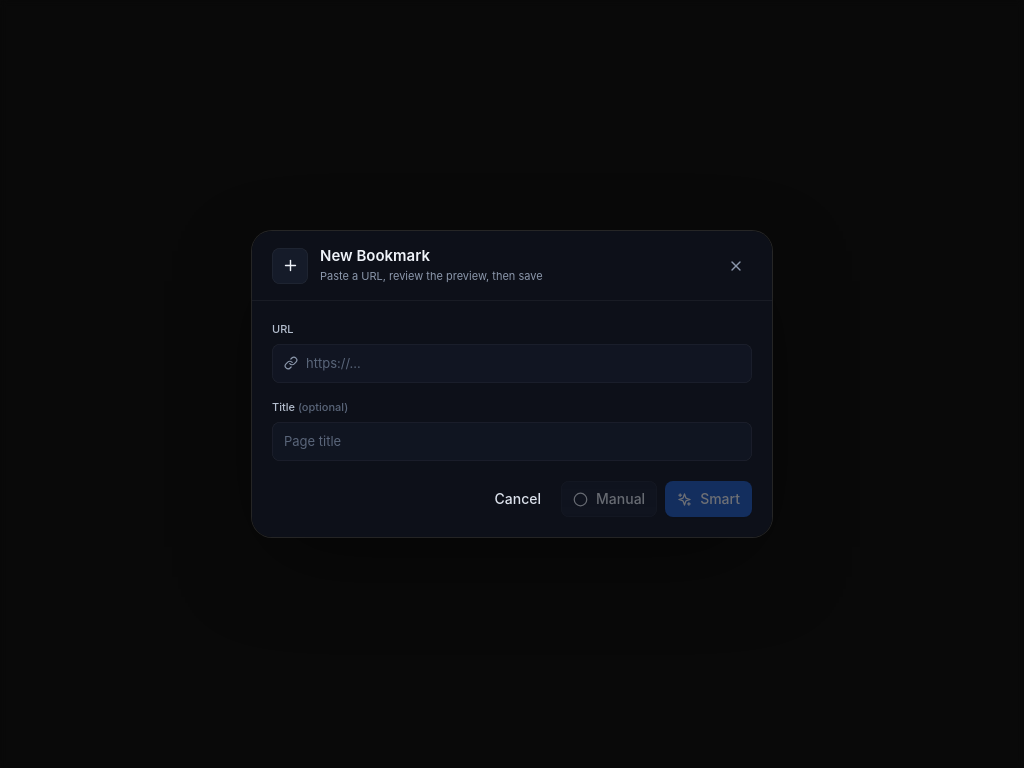
Scenario: NewBookmarkDialog Manual 与 Smart 入口 › 点击 Smart 调用一次元数据与一次 AI 分析
The image size is (1024, 768).
Step 1. Type "https://example.test/smart" into the field named "Bookmark URL" → (523, 363), box [306,354,740,373]
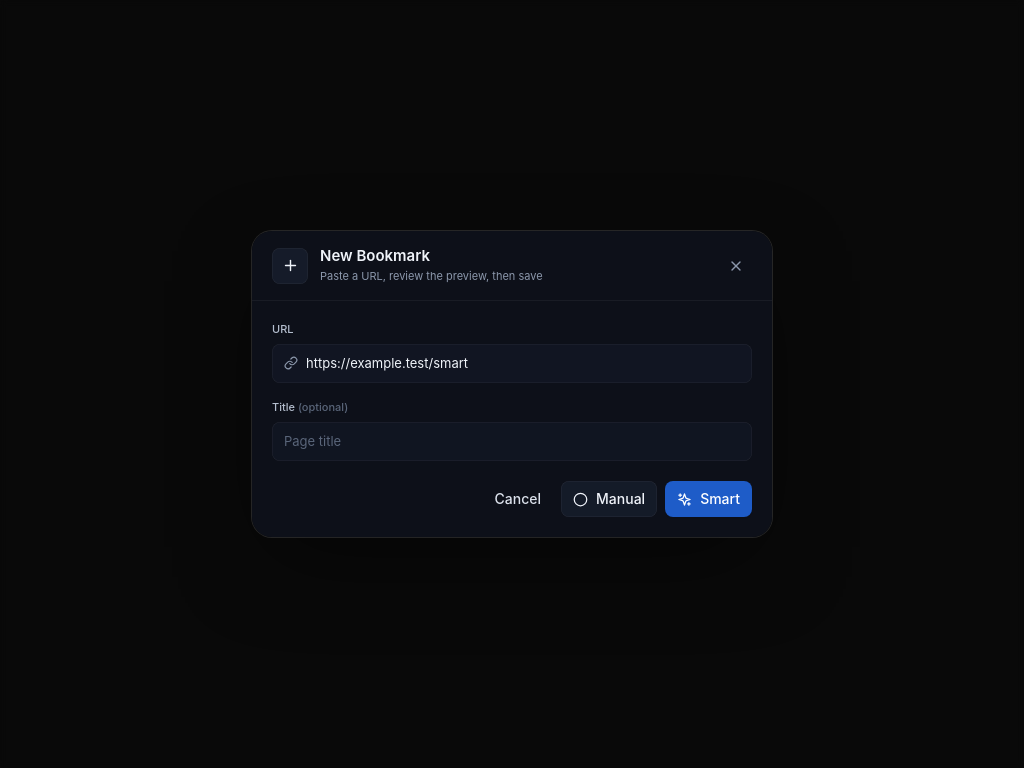
Step 2. Click the button "Smart" → (709, 499), box [665,481,752,517]
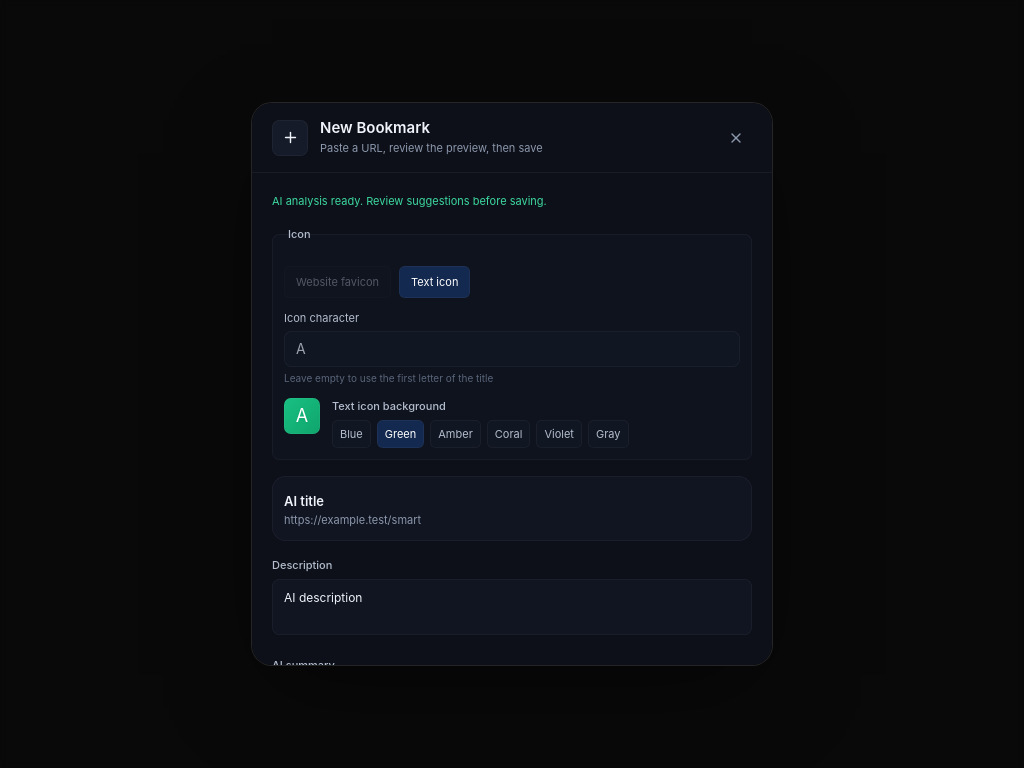
Result: the field named "Bookmark title" holds "AI title" at [284,492,740,512]
